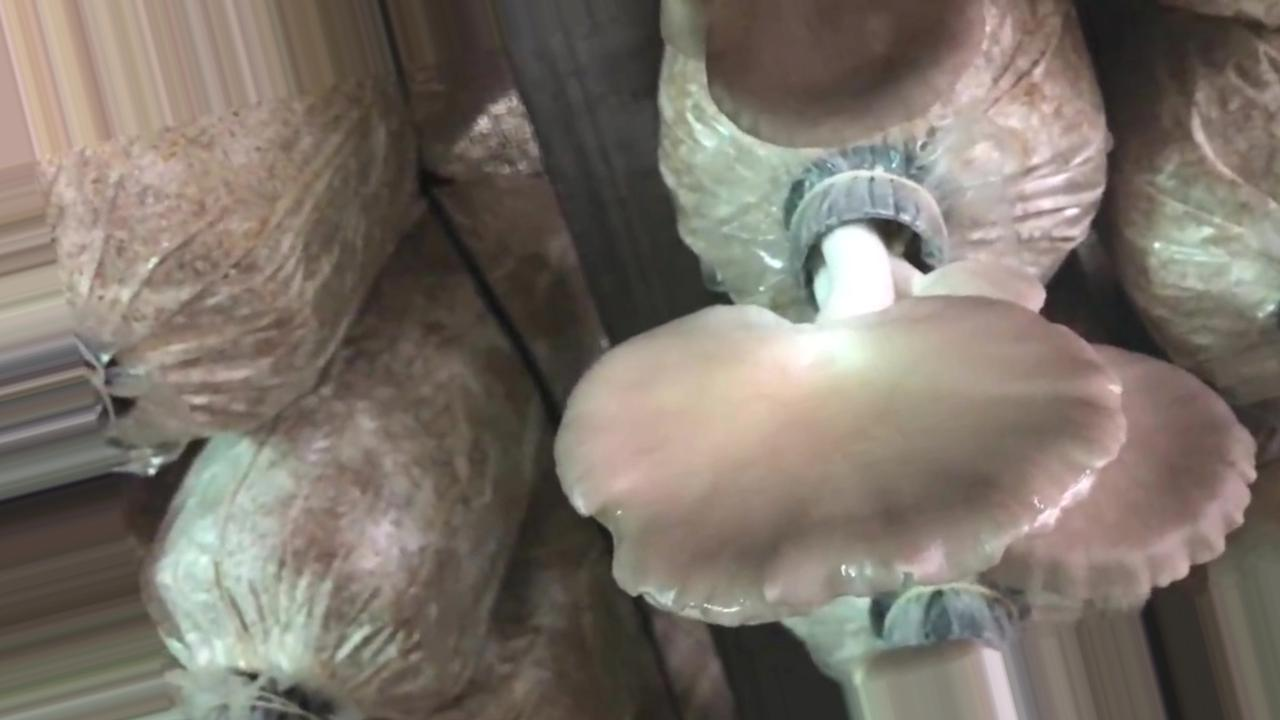nam: (555, 160, 1131, 627), (702, 5, 991, 152)
